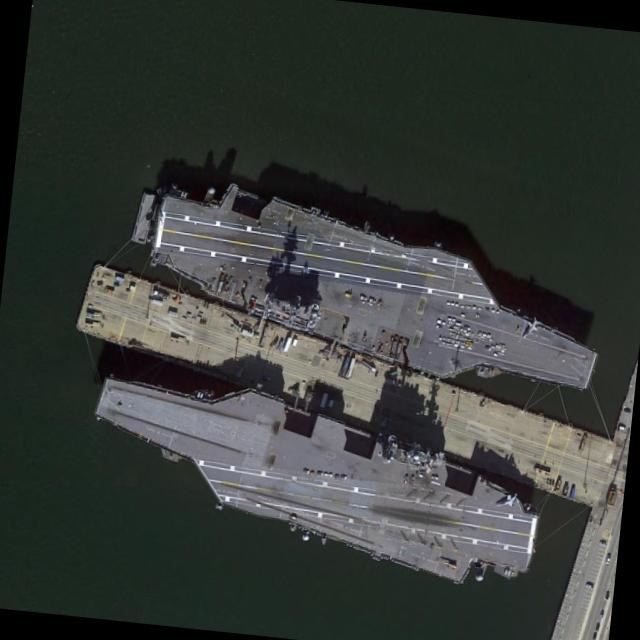plane: (494, 491, 519, 512)
ship: (118, 155, 610, 425), (82, 342, 554, 606)
small-vehicle: (606, 554, 611, 565), (592, 632, 597, 640), (595, 623, 600, 631), (605, 591, 610, 598), (586, 584, 593, 589), (600, 609, 604, 617), (600, 541, 607, 545), (619, 427, 625, 430)
